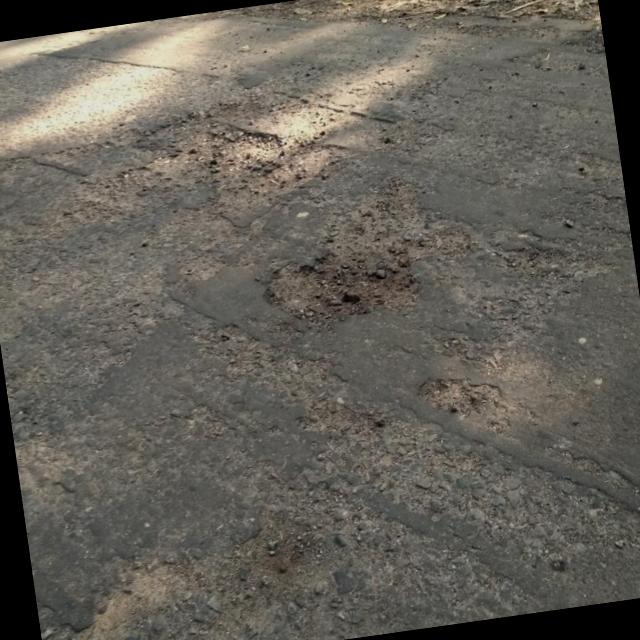Lubang: (270, 208, 428, 323)
